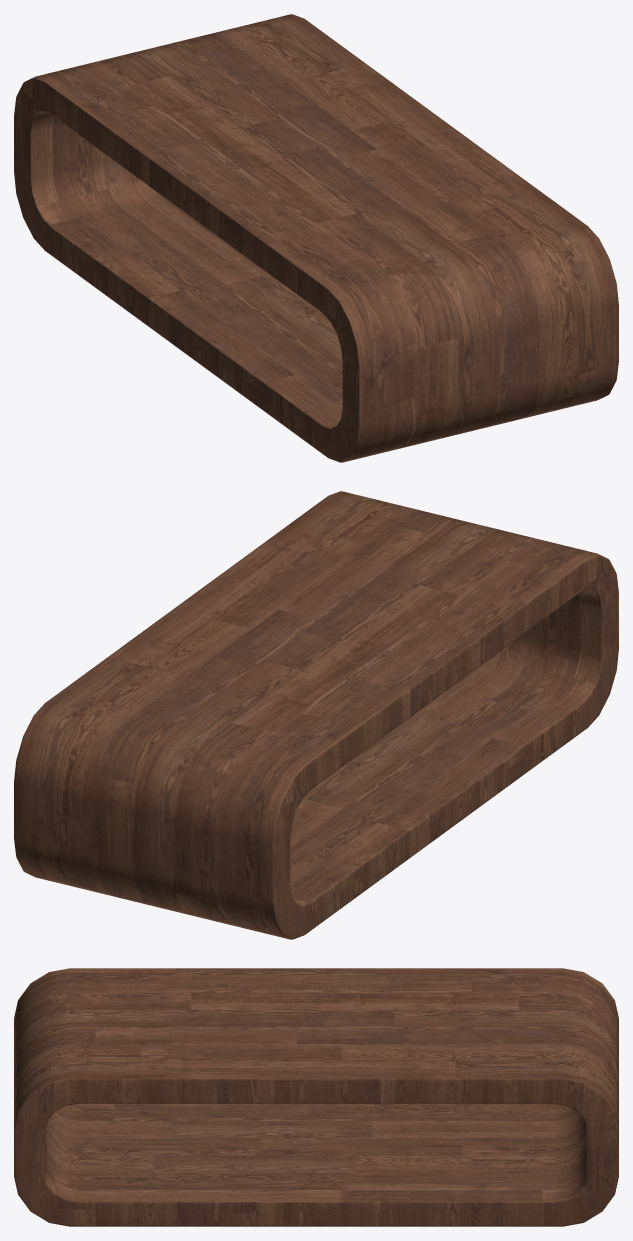
The model's file is Curved_Table_01.glb.
3 views of the same model, one above another, from view 1: azimuth 30°, elevation 25°; view 2: azimuth 150°, elevation 25°; view 3: azimuth 270°, elevation 25° (orthographic). The views are drawn at different scales.
Visible parts, largest first — view 1: Curve_Table_01_GEO; view 2: Curve_Table_01_GEO; view 3: Curve_Table_01_GEO.
Boxes of the visible parts, left/top/right/bottom form: Curve_Table_01_GEO: left=14, top=14, right=618, bottom=462; Curve_Table_01_GEO: left=14, top=491, right=618, bottom=939; Curve_Table_01_GEO: left=14, top=968, right=618, bottom=1226.
Bounding box in the file's own units: 0.3535 × 0.2205 × 0.8121.
Materials: 1 (1 with a texture image).
